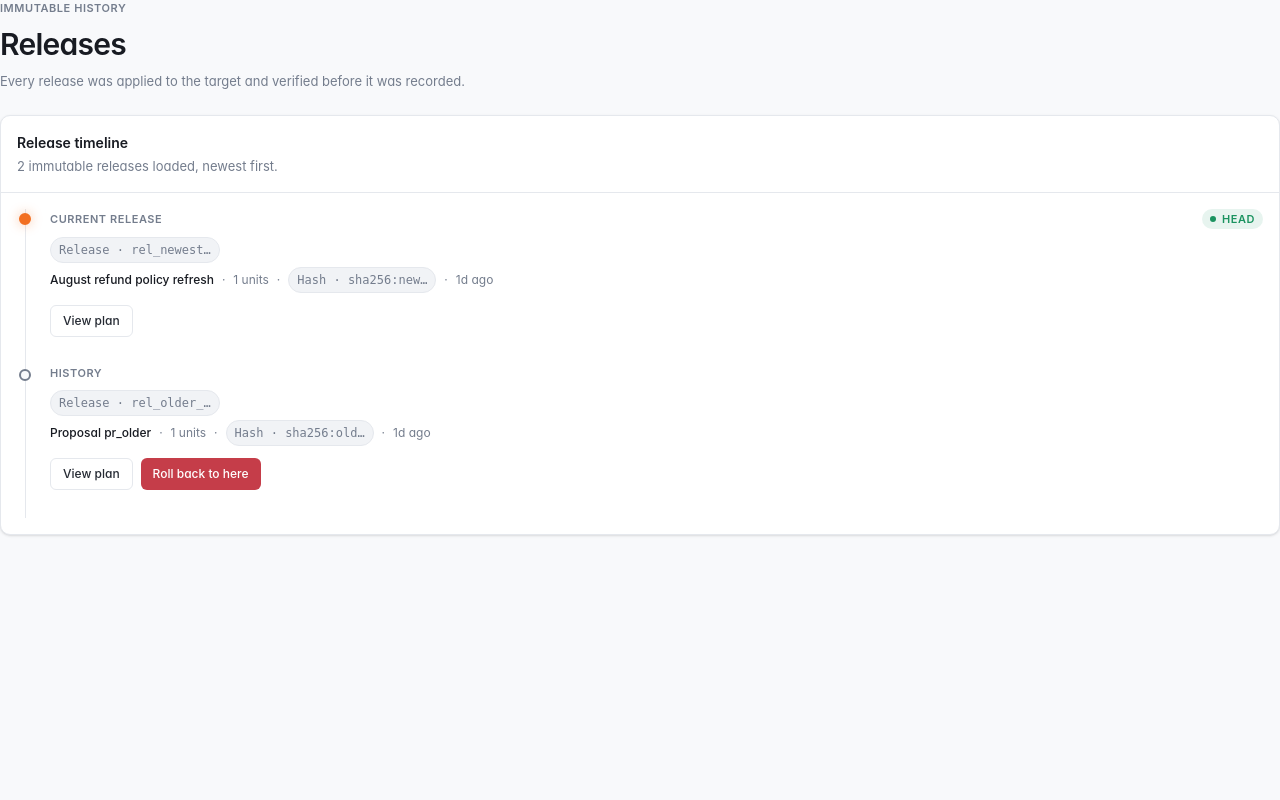
Test: ReleasesPage › opens rollback confirmation with all forward-history consequences
The width and height of the screenshot is (1280, 800).
Click the button "Roll back to here" at (201, 474), box top-left (141, 458), bottom-right (260, 490)
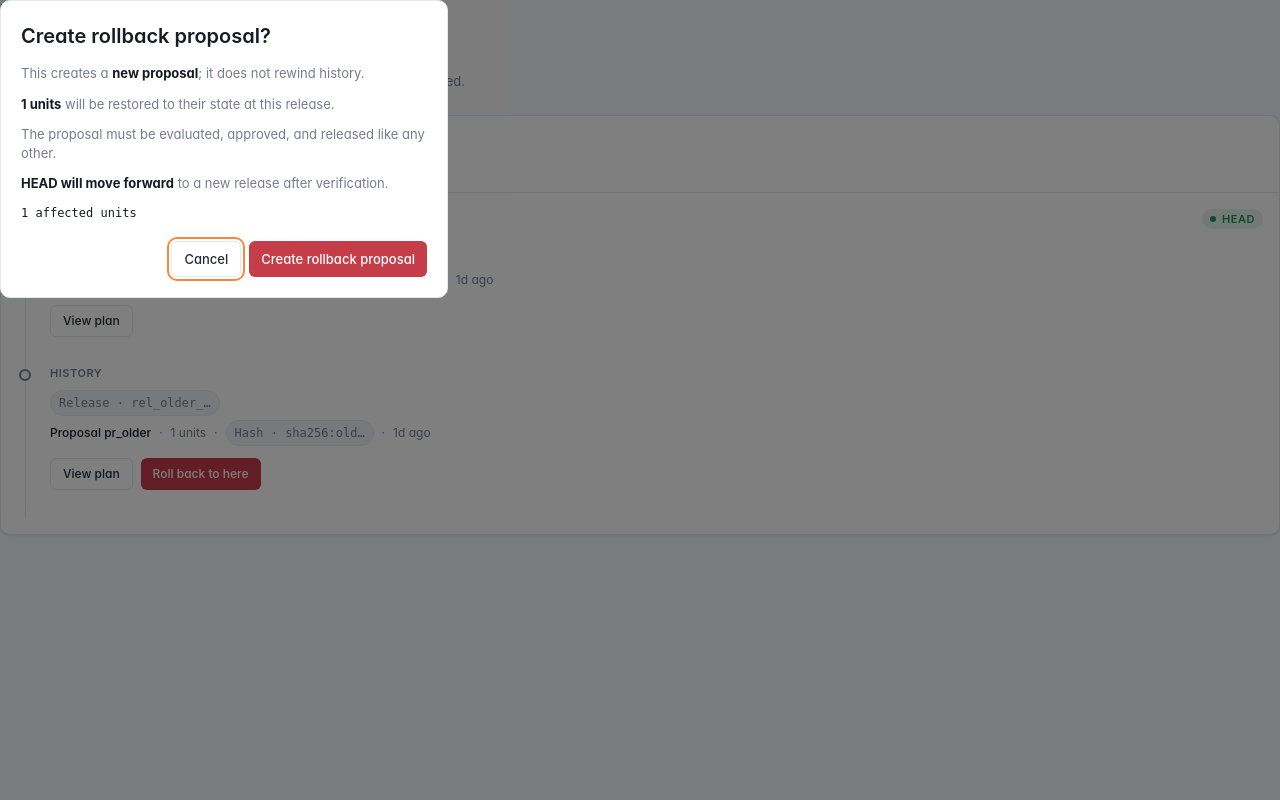
Check: the dialog "Create rollback proposal?" shows "new proposal", box top-left (112, 65), bottom-right (198, 81)
Check: the dialog "Create rollback proposal?" shows "does not rewind history", box top-left (198, 65), bottom-right (364, 81)
Check: the dialog "Create rollback proposal?" shows "1 units will be restored", box top-left (0, 0), bottom-right (448, 298)
